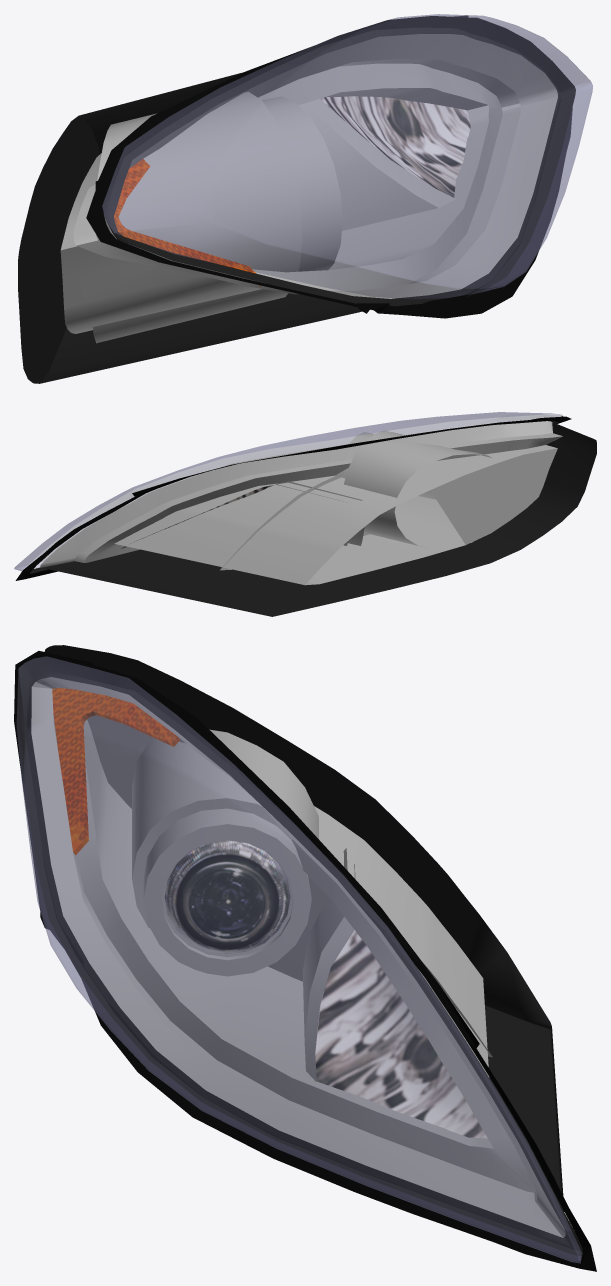
3 renders of one model, top to bottom at view 1: azimuth 30°, elevation 25°; view 2: azimuth 150°, elevation 25°; view 3: azimuth 270°, elevation 25°, orthographic. The views are drawn at different scales.
Parts seen in each view (by area): view 1: D162_061B_R_D162_061B_R_5_DTaSI, D162_061B_R_D162_061B_R_3_DaS, D162_061B_R_D162_061B_R_4_D, D162_061B_R_D162_061B_R_7_D, D162_061B_R_1_N_D162_061B_R, D162_061B_R_D162_061B_R_6_N; view 2: D162_061B_R_D162_061B_R_3_DaS, D162_061B_R_D162_061B_R_4_D, D162_061B_R_D162_061B_R_5_DTaSI, D162_061B_R_D162_061B_R_7_D; view 3: D162_061B_R_D162_061B_R_5_DTaSI, D162_061B_R_D162_061B_R_3_DaS, D162_061B_R_D162_061B_R_4_D, D162_061B_R_D162_061B_R_7_D, D162_061B_R_1_N_D162_061B_R, D162_061B_R_D162_061B_R_2_N, D162_061B_R_D162_061B_R_6_N.
Part boxes in pixels (x1,y1,x2,y2): D162_061B_R_D162_061B_R_5_DTaSI: (102, 14, 592, 298); D162_061B_R_D162_061B_R_3_DaS: (60, 34, 557, 343); D162_061B_R_D162_061B_R_4_D: (18, 16, 575, 383); D162_061B_R_D162_061B_R_7_D: (86, 16, 572, 318); D162_061B_R_1_N_D162_061B_R: (320, 96, 470, 197); D162_061B_R_D162_061B_R_6_N: (114, 159, 260, 286); D162_061B_R_D162_061B_R_3_DaS: (40, 421, 562, 585); D162_061B_R_D162_061B_R_4_D: (30, 416, 596, 616); D162_061B_R_D162_061B_R_5_DTaSI: (14, 412, 562, 570); D162_061B_R_D162_061B_R_7_D: (15, 416, 571, 580); D162_061B_R_D162_061B_R_5_DTaSI: (16, 656, 582, 1263); D162_061B_R_D162_061B_R_3_DaS: (31, 677, 565, 1237); D162_061B_R_D162_061B_R_4_D: (16, 645, 582, 1256); D162_061B_R_D162_061B_R_7_D: (14, 651, 596, 1271); D162_061B_R_1_N_D162_061B_R: (315, 930, 486, 1138); D162_061B_R_D162_061B_R_2_N: (164, 840, 290, 953); D162_061B_R_D162_061B_R_6_N: (52, 688, 179, 854).
Size of the model in its own units: 61.86 by 21.16 by 39.57.
